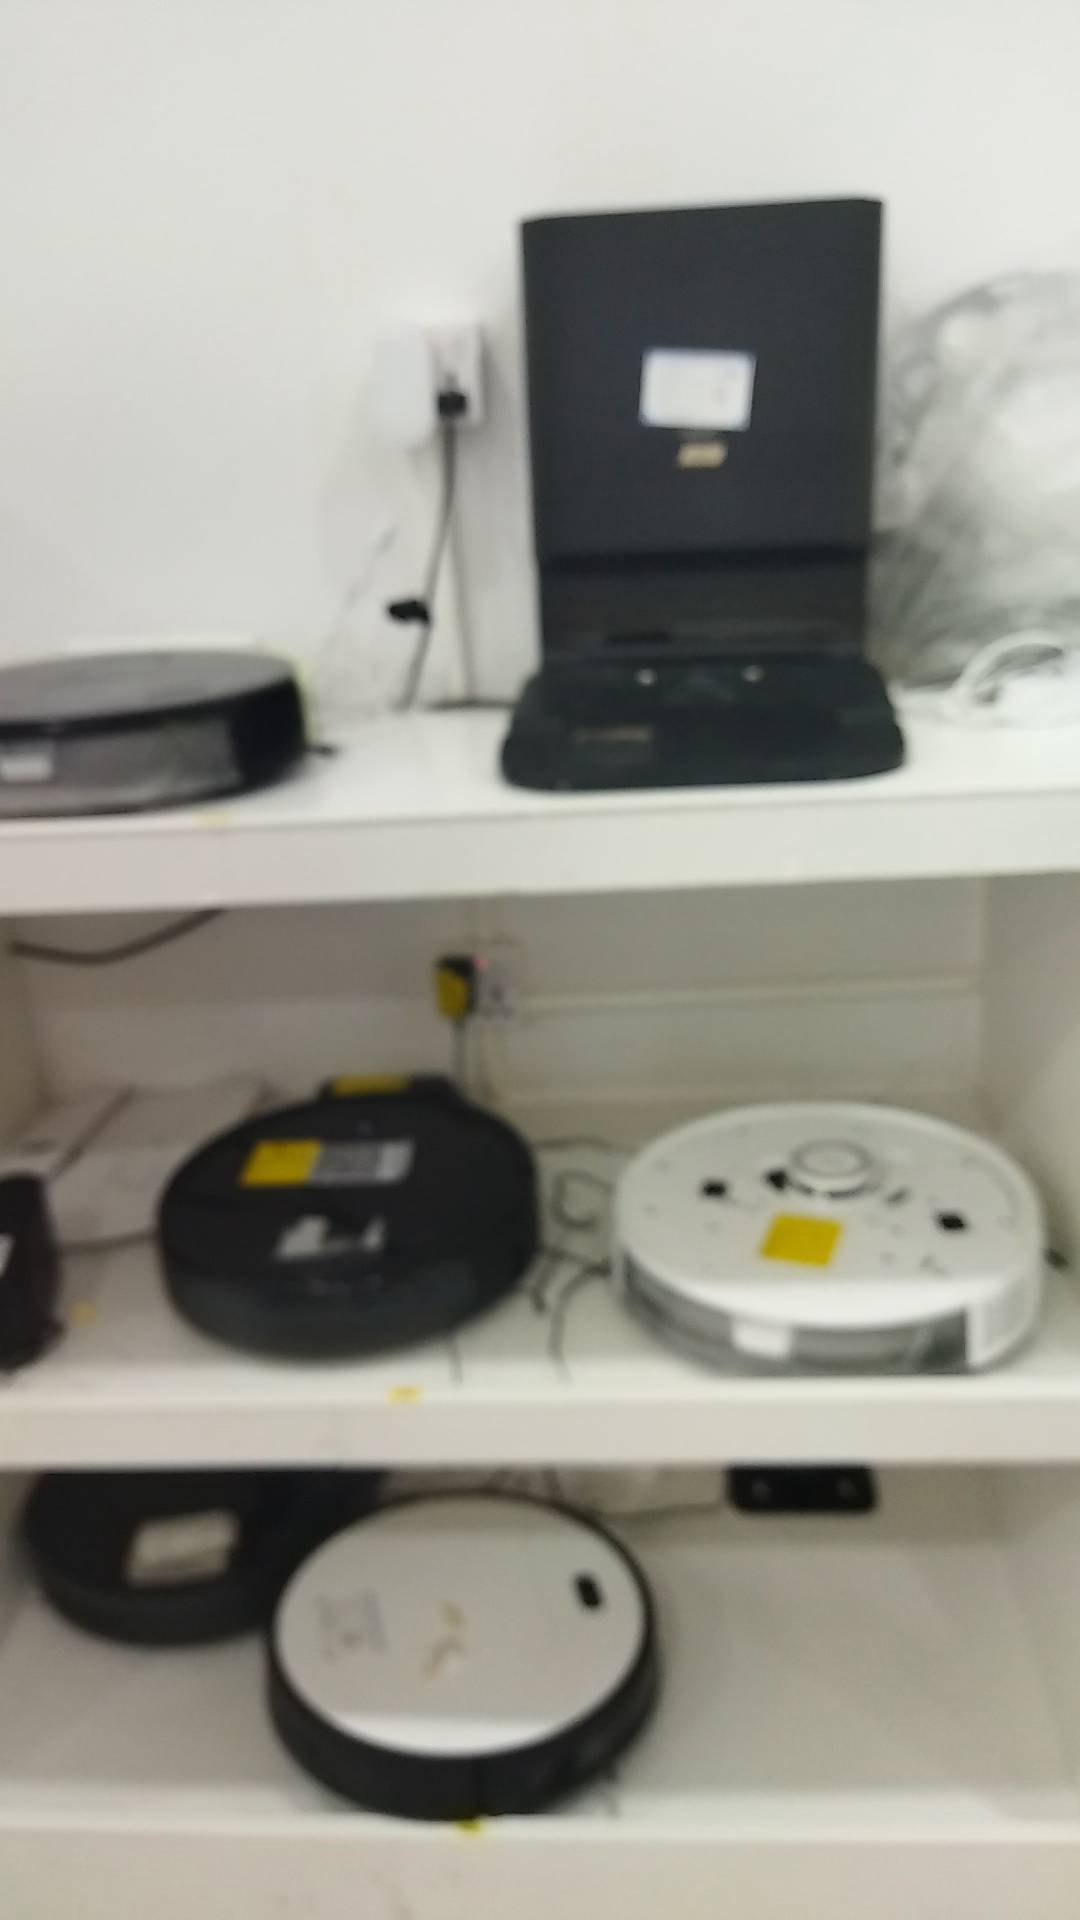dust collecting barrel: (498, 195, 907, 793)
